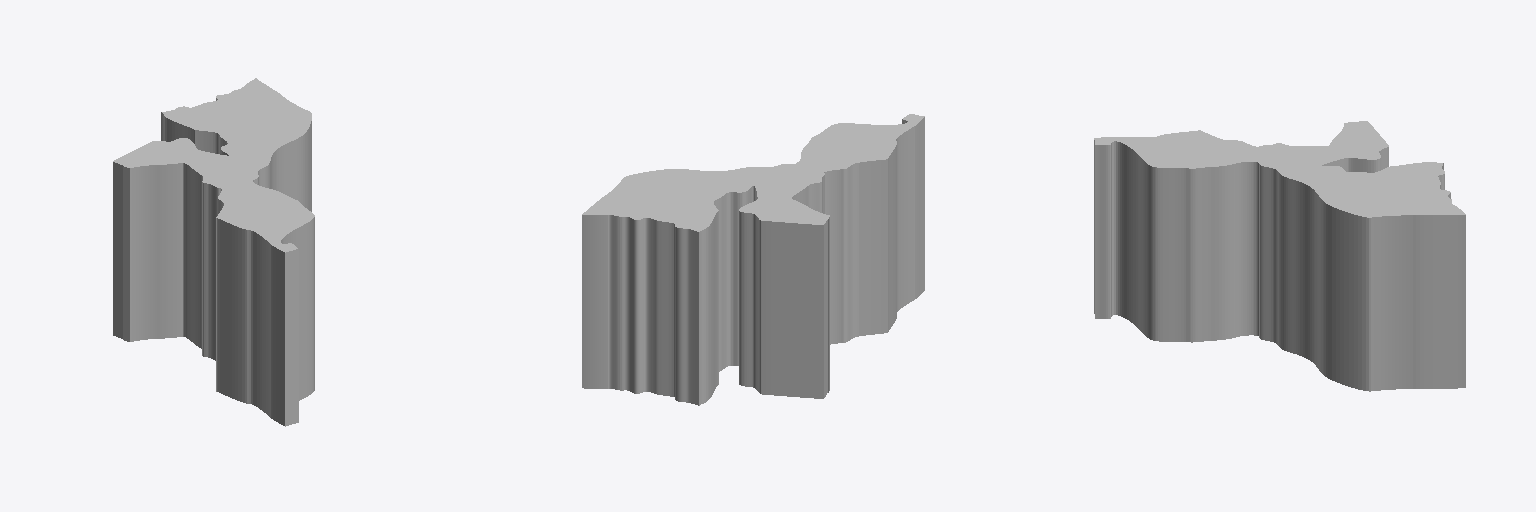
The picture shows the model from 3 angles: view 1: azimuth 30°, elevation 25°; view 2: azimuth 150°, elevation 25°; view 3: azimuth 270°, elevation 25°; orthographic projection.
Parts seen in each view (by area): view 1: MZ_CUCurve.1586; view 2: MZ_CUCurve.1586; view 3: MZ_CUCurve.1586.
Part boxes in pixels (bbox=[...]): MZ_CUCurve.1586: bbox=[113, 78, 314, 426]; MZ_CUCurve.1586: bbox=[582, 114, 924, 405]; MZ_CUCurve.1586: bbox=[1094, 121, 1465, 391].
Bounding box in the file's own units: 0.06 × 0.05 × 0.0971.